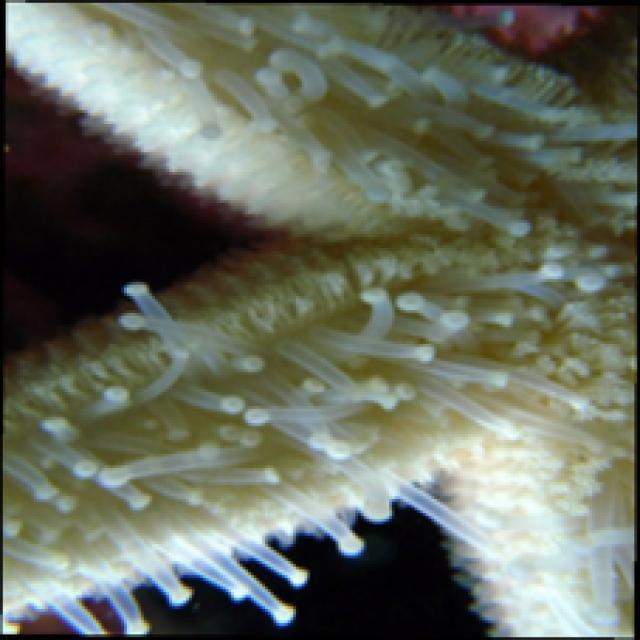Bleached: (1, 256, 471, 637), (1, 1, 584, 257), (455, 42, 640, 640)
